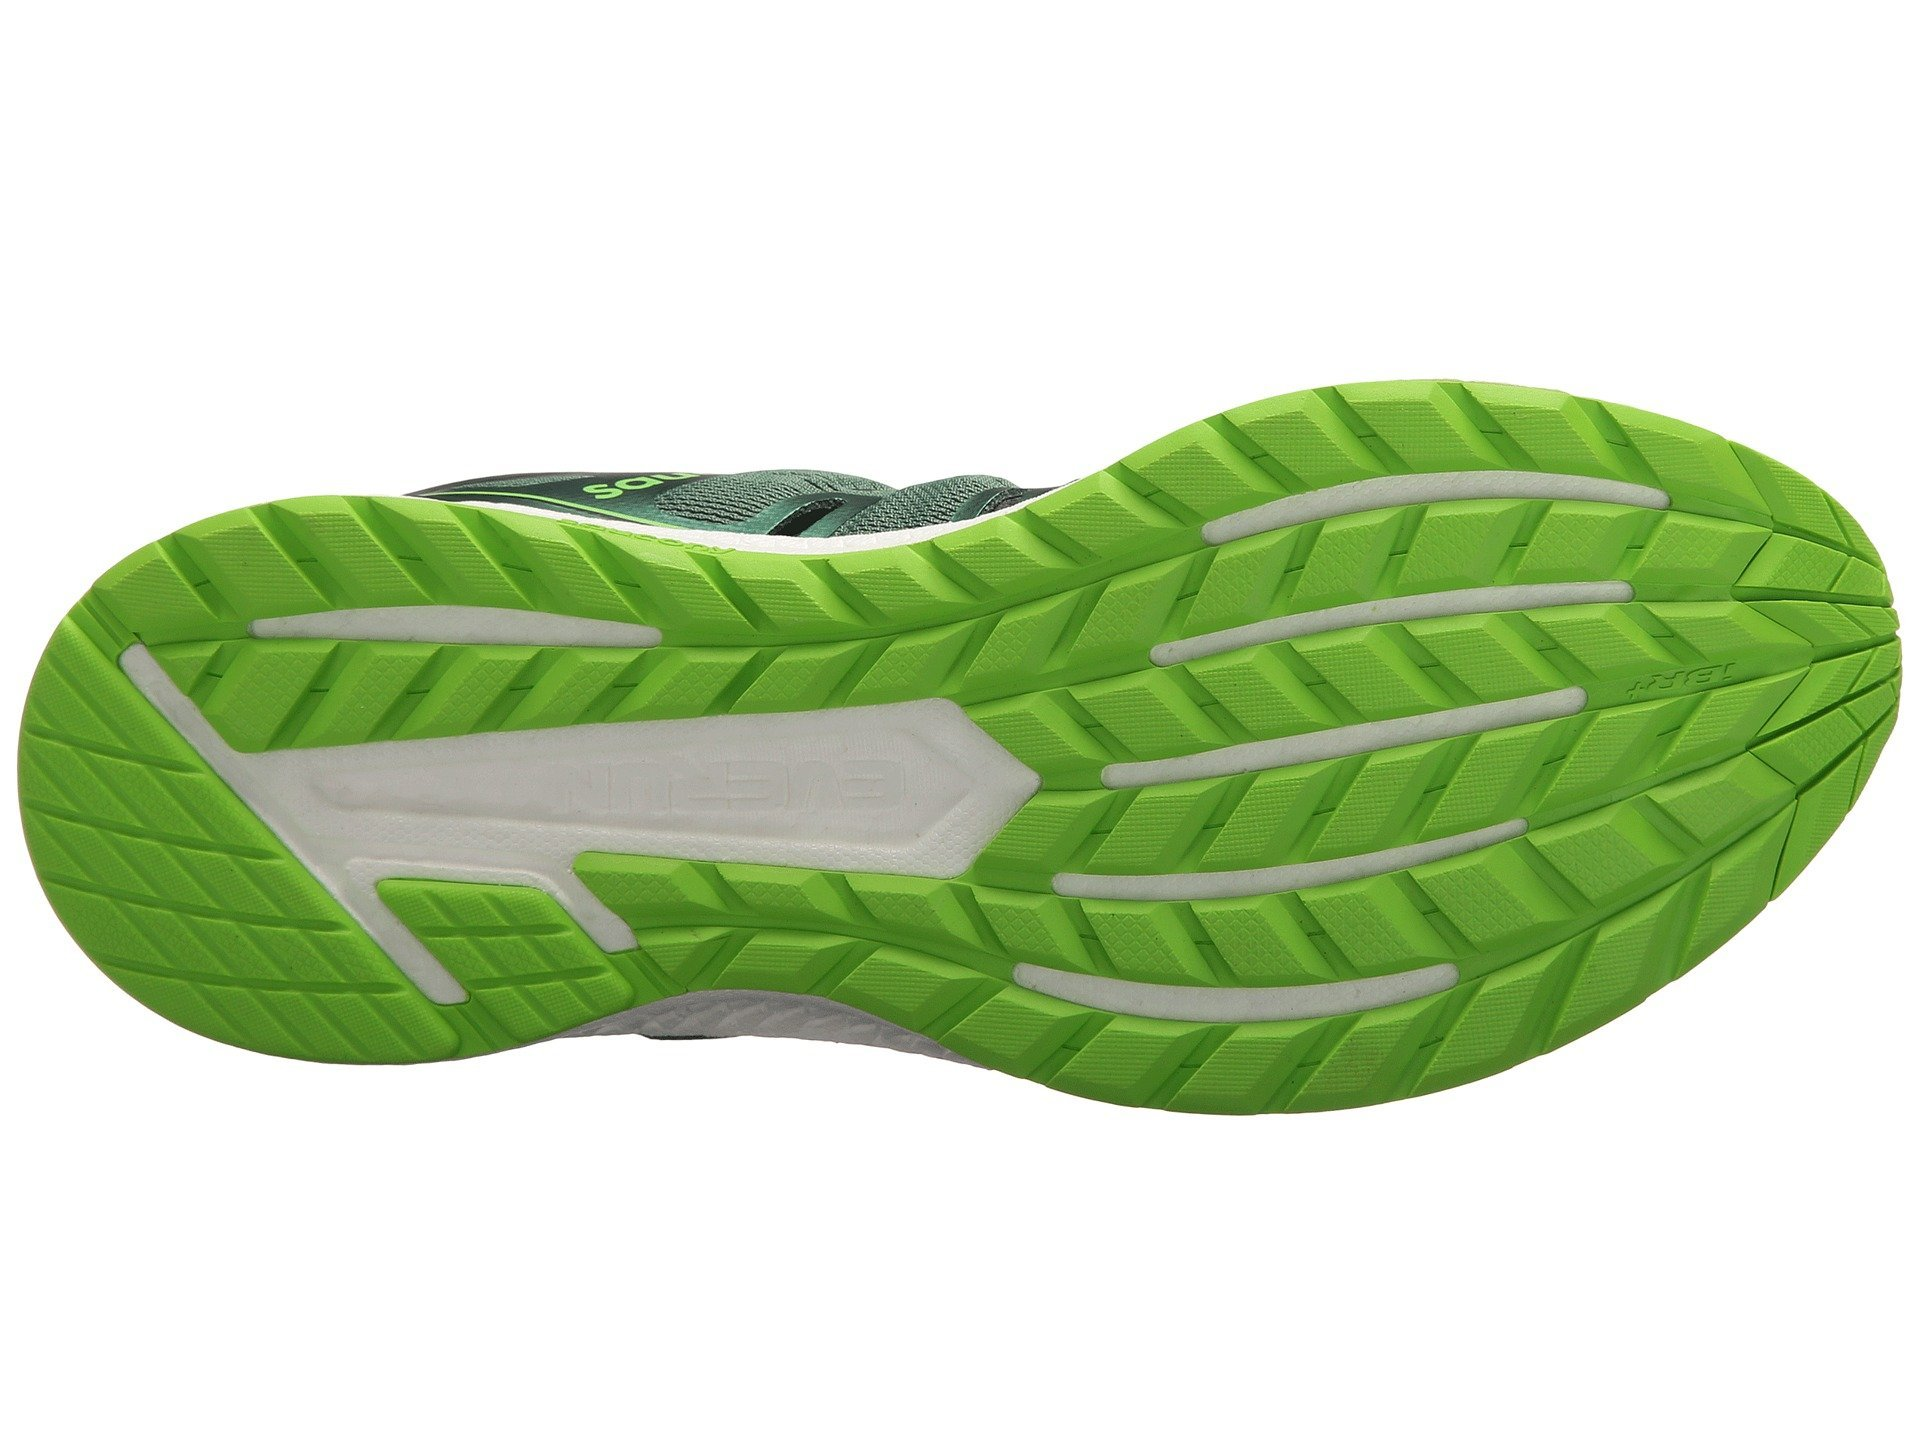chevron: (1176, 495, 1601, 1030), (1651, 495, 1900, 806)
line: (1176, 495, 1601, 1030)
quad: (1176, 495, 1601, 1030), (1651, 495, 1900, 806), (70, 771, 334, 1018)
